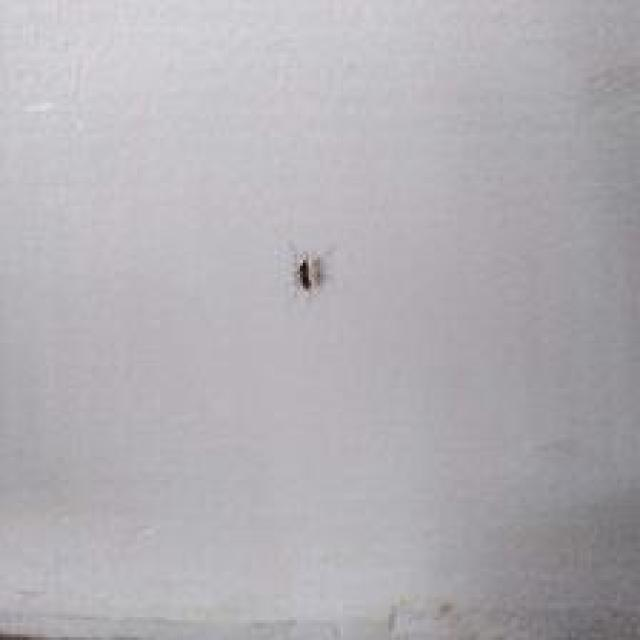Culex: (293, 250, 324, 296)
